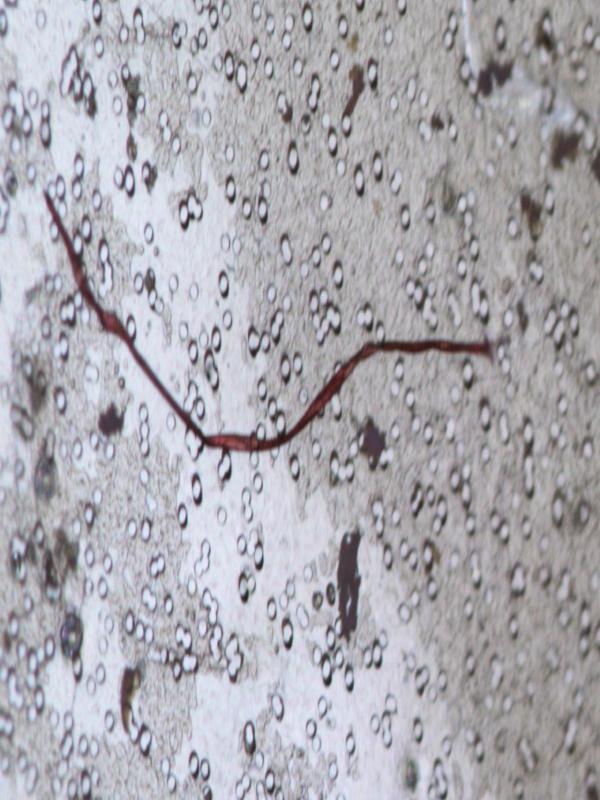microplastic: (1, 1, 598, 797), (41, 182, 496, 482)
